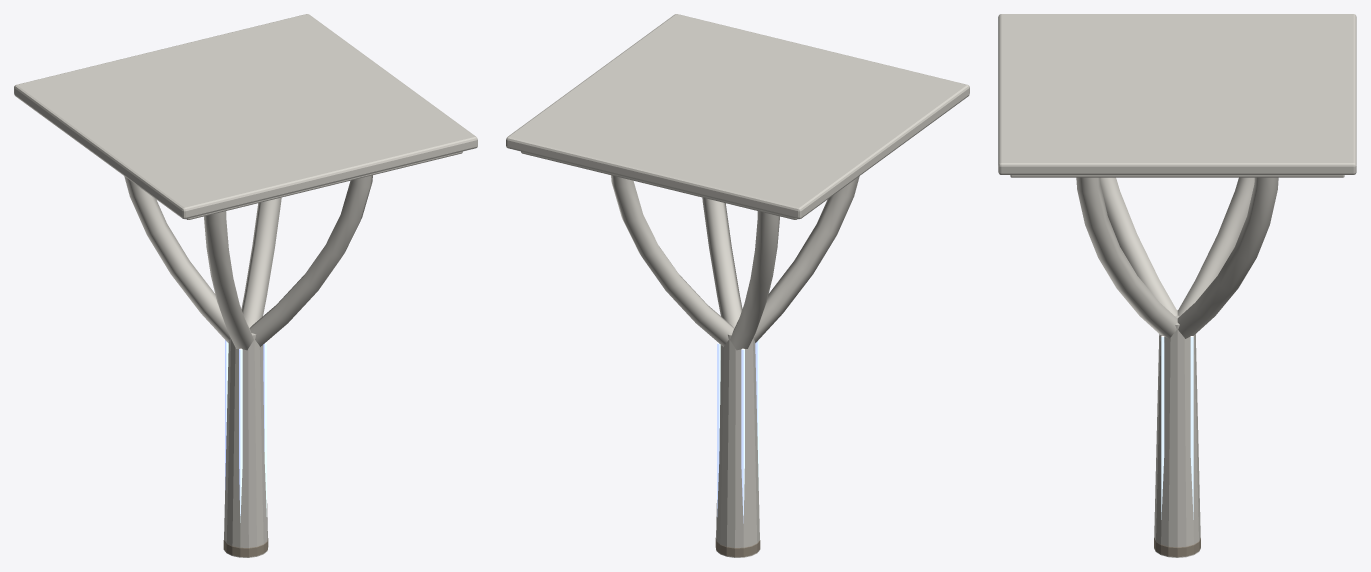
Rendered from tree_column.glb.
3 renders of one model, left to right at view 1: azimuth 30°, elevation 25°; view 2: azimuth 150°, elevation 25°; view 3: azimuth 270°, elevation 25°, orthographic. The views are drawn at different scales.
Parts seen in each view (by area): view 1: tree_column; view 2: tree_column; view 3: tree_column.
Boxes of the visible parts, x1=… form: tree_column: x1=14, y1=14, x2=477, y2=557; tree_column: x1=506, y1=14, x2=969, y2=557; tree_column: x1=998, y1=14, x2=1356, y2=557.
Size of the model in its own units: 7.6 by 10.76 by 7.6.
